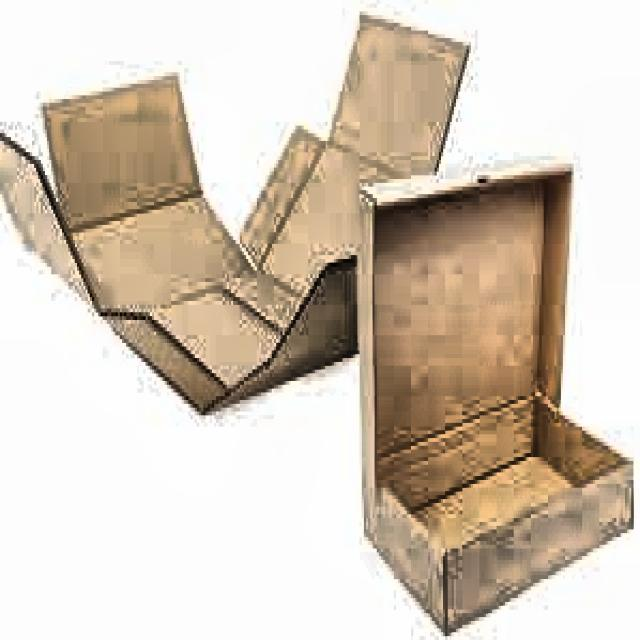Cardbox: (0, 7, 478, 436), (344, 133, 640, 639)
